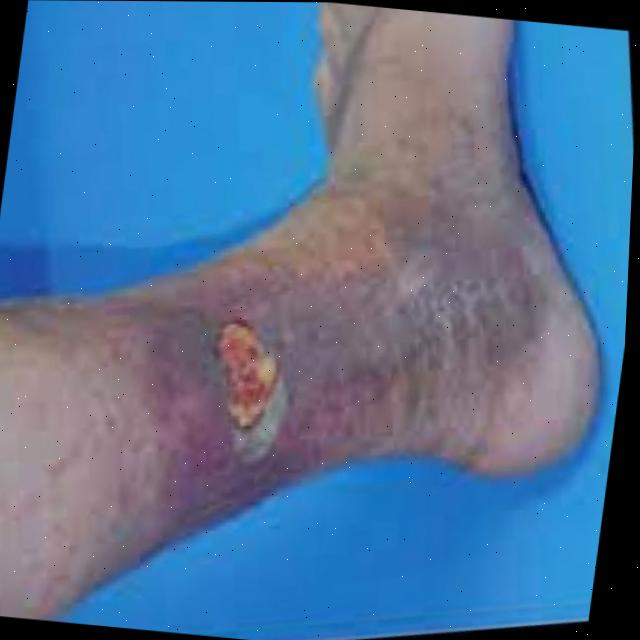Eczema: (111, 179, 549, 559)
